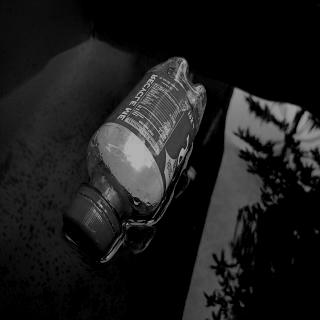bottle: (62, 56, 206, 260)
